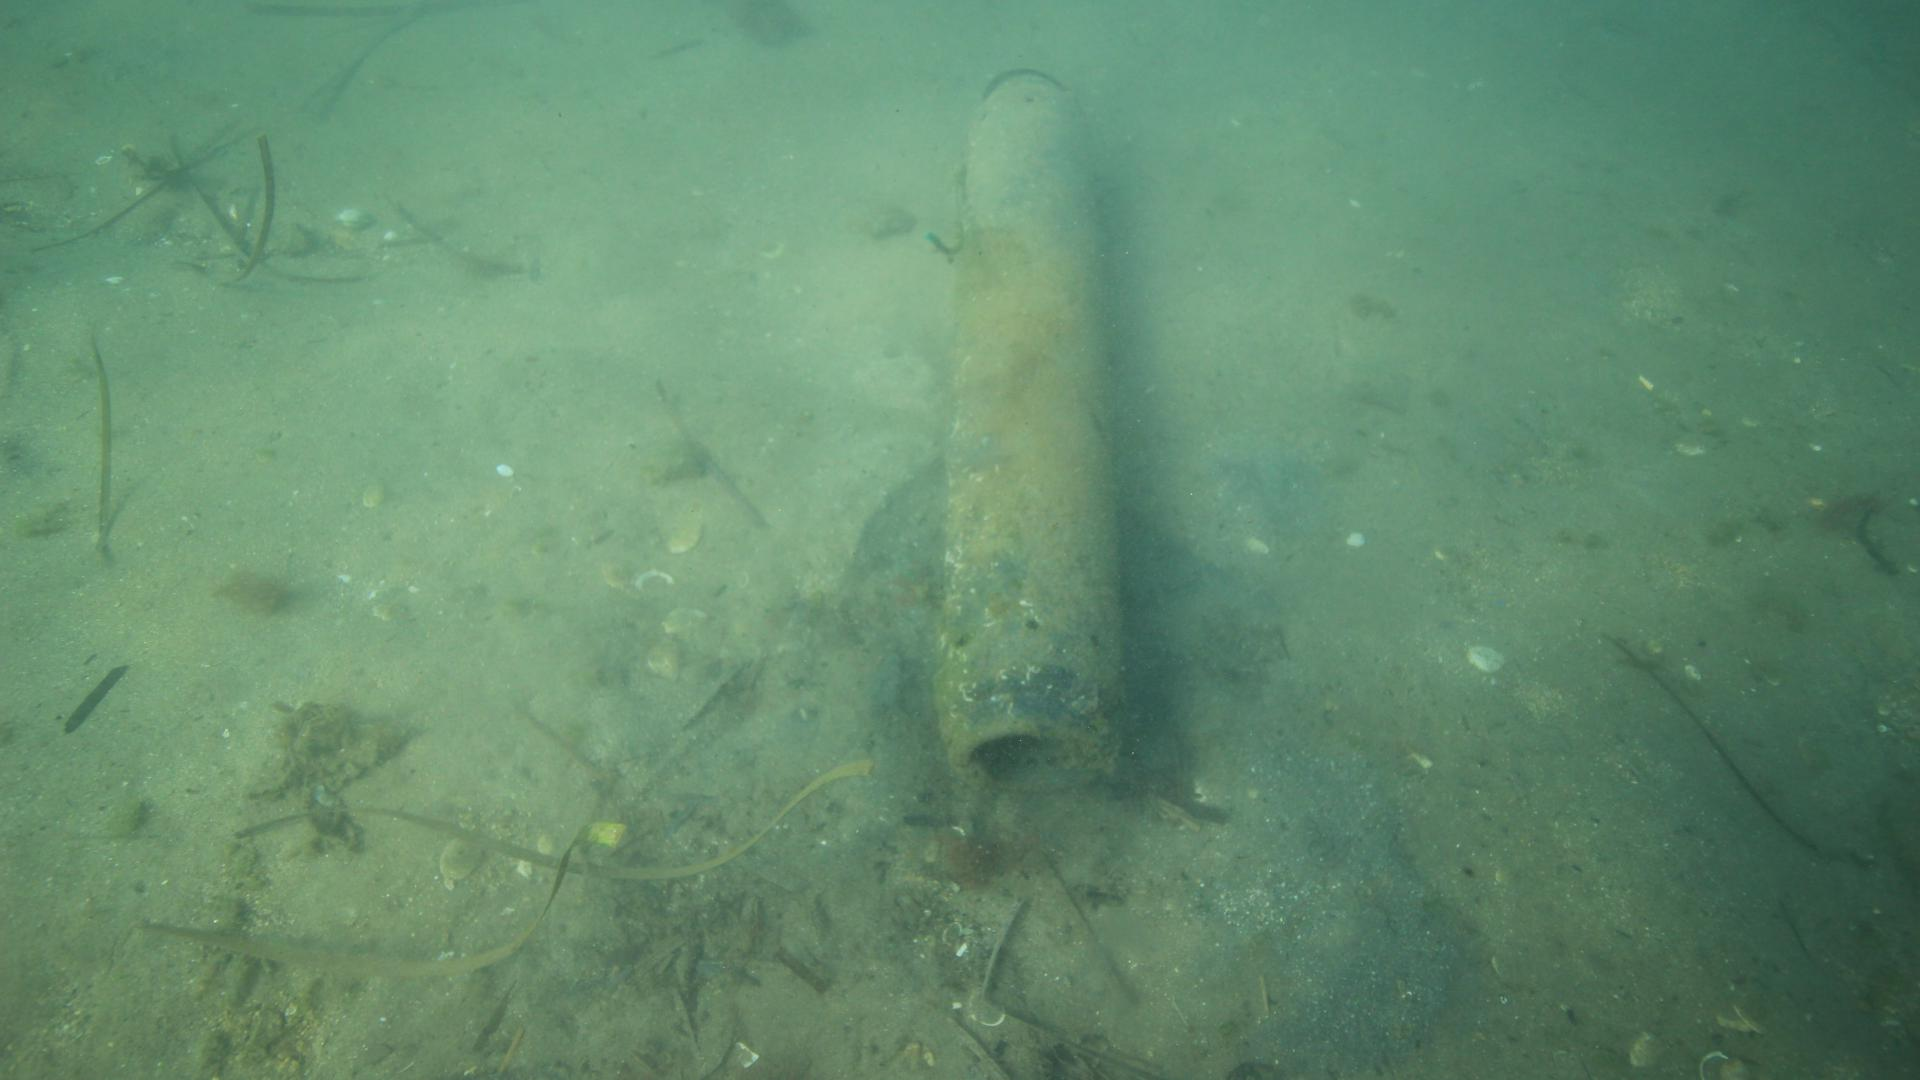eel fish trap: (931, 61, 1124, 791)
